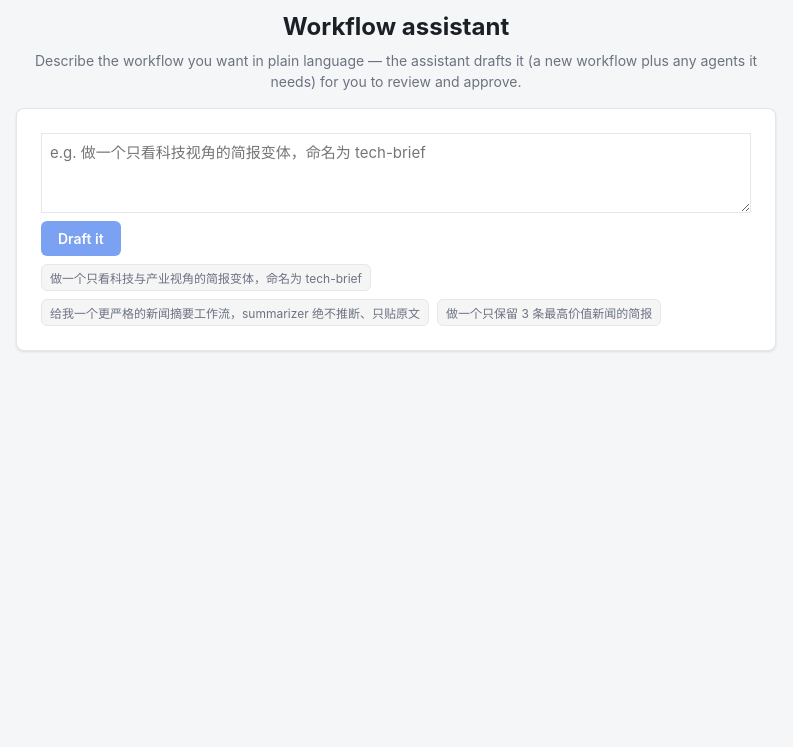
AssistantPage › describe → draft → shows the proposal
Type "做一个只看科技视角的简报" into the text box named "describe the workflow you want" at (396,173), box [41, 133, 751, 213]
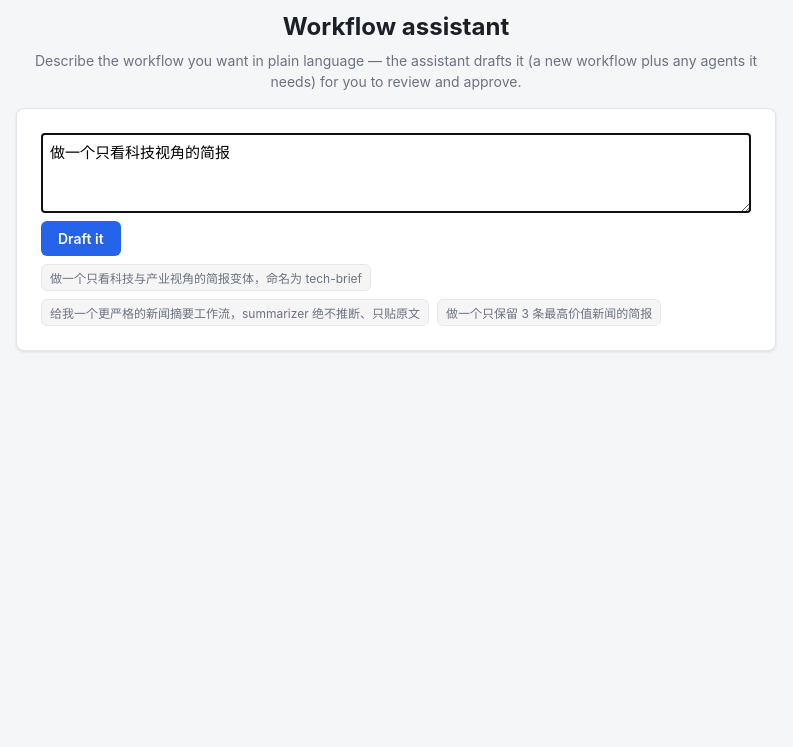
Click the button "Draft it" at (81,238), box [41, 221, 121, 256]
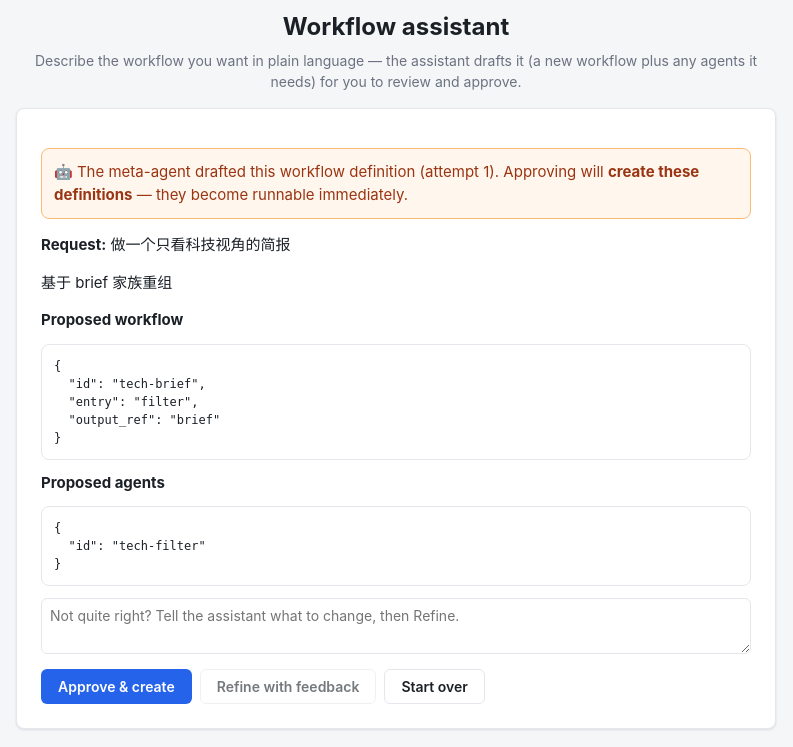
Result: the text named "proposed workflow def" shows "tech-brief" at [54, 358, 220, 444]
